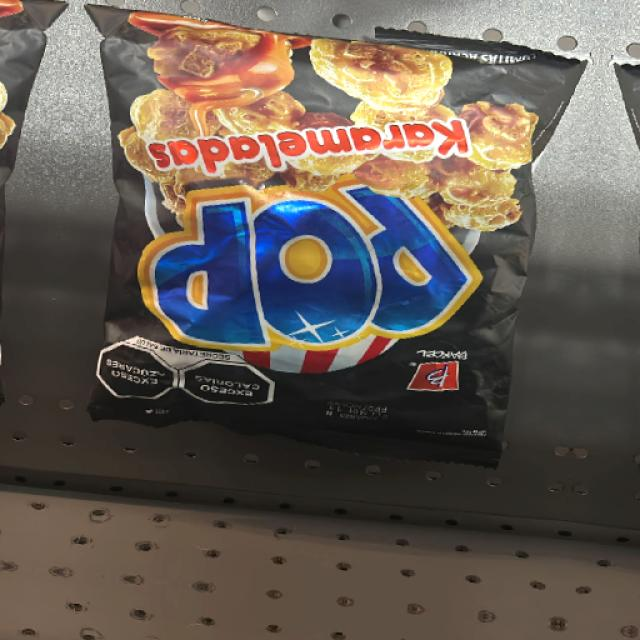popKarameladas: (136, 18, 511, 430)
